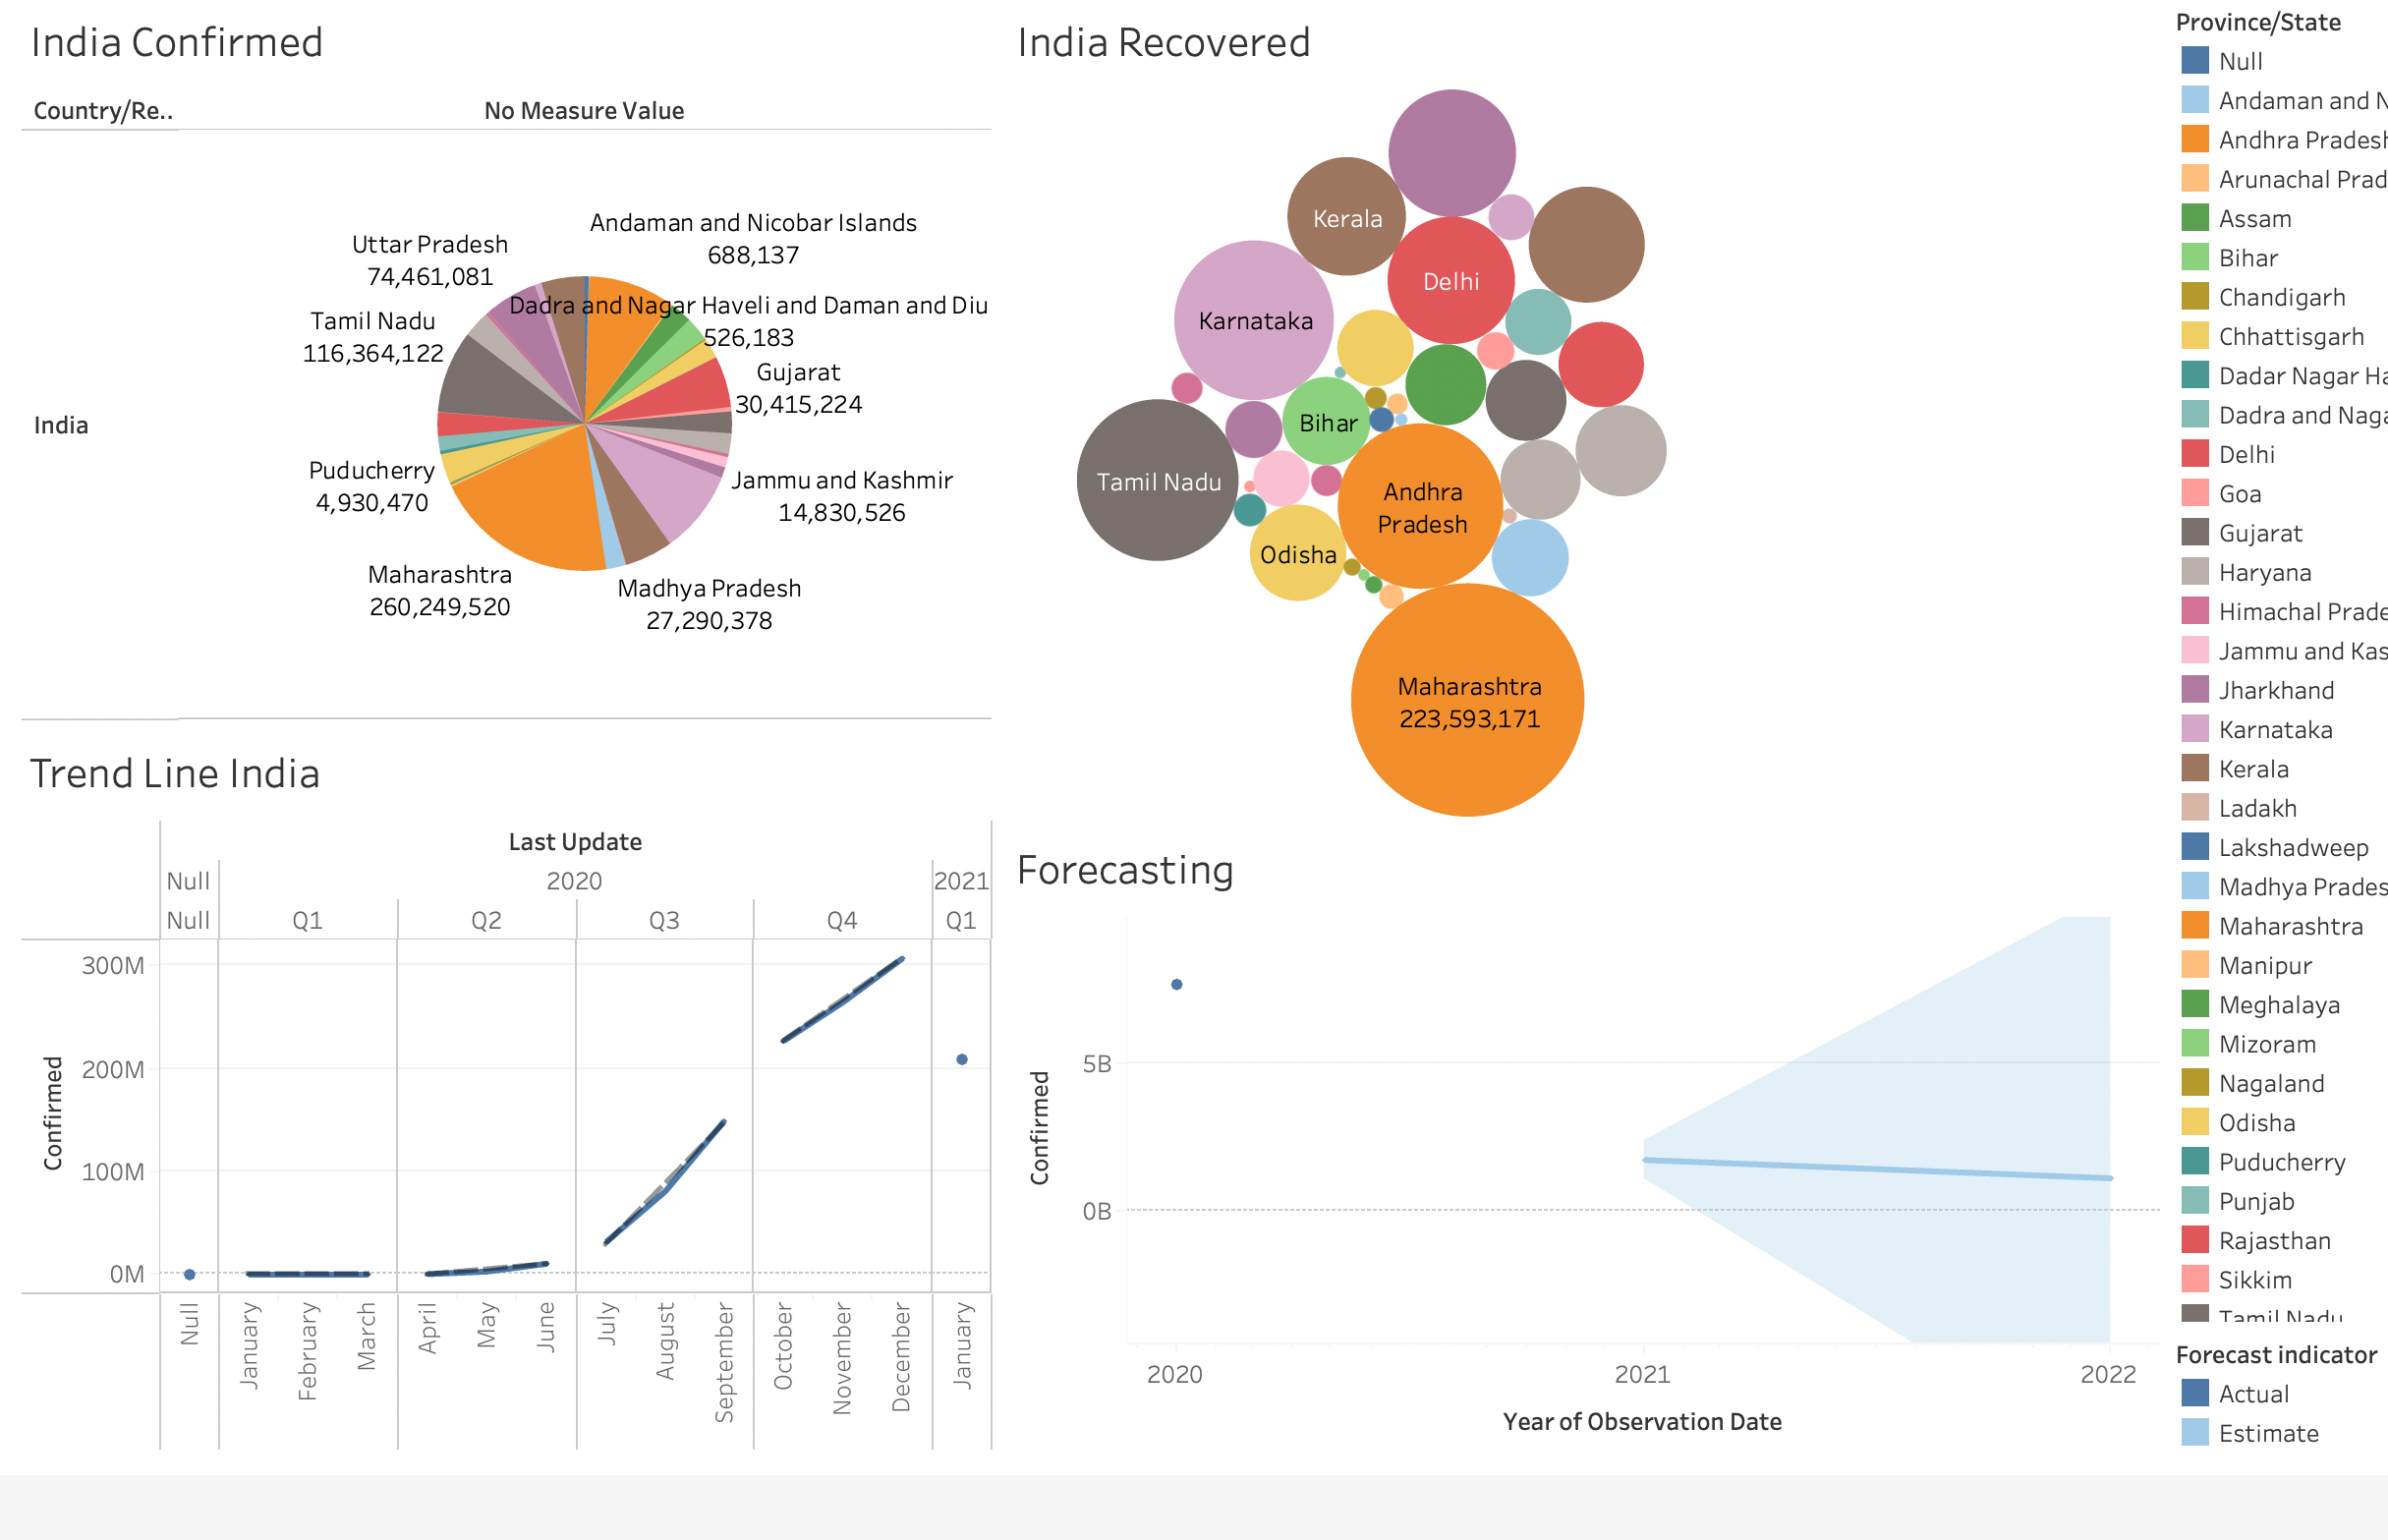

The dashboard page shown, as its layout file describes it:
{"tool":"tableau","page":{"name":"Dashboard India","canvas":[1000,1000],"units":"permille","ordinal":1},"visuals":[{"type":"worksheet","title":"India Confirmed","mark":"Pie","rows":["Country/Region"],"box":[6.1,10.5,397,489.5]},{"type":"worksheet","title":"India Recovered","mark":"Circle","box":[403,10.5,469.7,553.9]},{"type":"legend","title":"India Confirmed","param":"[federated.0rlqlvq1f8c1k0115ozau05ewsw5].[none:Province/State:nk]","box":[872.7,10.5,121.2,892.1]},{"type":"worksheet","title":"Trend Line India","mark":"Line","rows":["Confirmed"],"cols":["Last Update","Last Update","Last Update"],"box":[6.1,500,397,489.5]},{"type":"worksheet","title":"Forecasting","mark":"Automatic","rows":["Confirmed"],"cols":["ObservationDate"],"box":[403,564.5,469.7,425]},{"type":"legend","title":"Forecasting","param":"[federated.0rlqlvq1f8c1k0115ozau05ewsw5].[none:Forecast Indicator:nk]","box":[872.7,902.6,121.2,86.9]}]}

Visuals, with their boxes on the dashboard's canvas, which has no fixed pixel size, in thousandths of its width and height (x1, y1, x2, y2). These are canvas units, not pixel positions in the 2388x1540 screenshot, which may show the page scaled, cropped or inside an application window:
"India Confirmed" worksheet (Pie marks): region(6, 10, 403, 500)
"India Recovered" worksheet (Circle marks): region(403, 10, 873, 564)
"India Confirmed" legend: region(873, 10, 994, 903)
"Trend Line India" worksheet (Line marks): region(6, 500, 403, 990)
"Forecasting" worksheet: region(403, 564, 873, 990)
"Forecasting" legend: region(873, 903, 994, 990)
